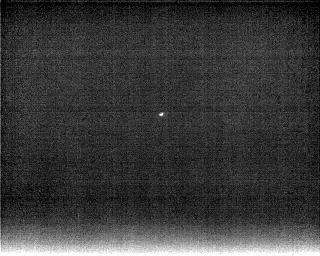BIRD: (157, 109, 166, 120)
